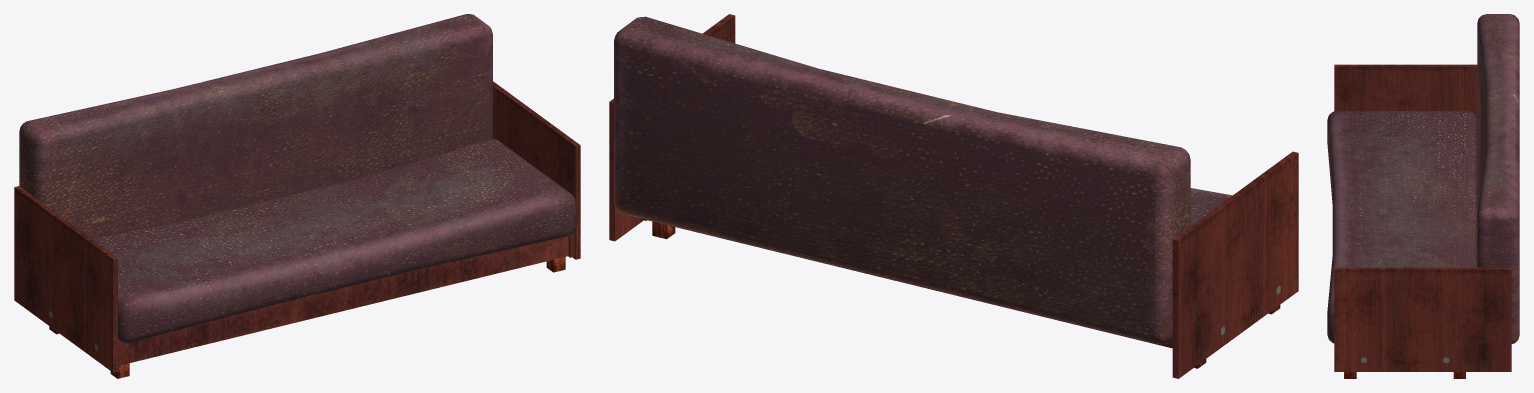
File: old_sofa.glb
The picture shows the model from 3 angles, left to right: view 1: azimuth 30°, elevation 25°; view 2: azimuth 150°, elevation 25°; view 3: azimuth 270°, elevation 25°; orthographic projection. The views are drawn at different scales.
Visible parts, largest first — view 1: Old sofa; view 2: Old sofa; view 3: Old sofa.
Boxes of the visible parts, box(x1,y1,x2,y2) form: Old sofa: box(14, 14, 580, 378); Old sofa: box(609, 14, 1298, 378); Old sofa: box(1327, 14, 1519, 378).
Bounding box in the file's own units: 194 × 74.75 × 76.93.
Materials: 1 (1 with a texture image).
